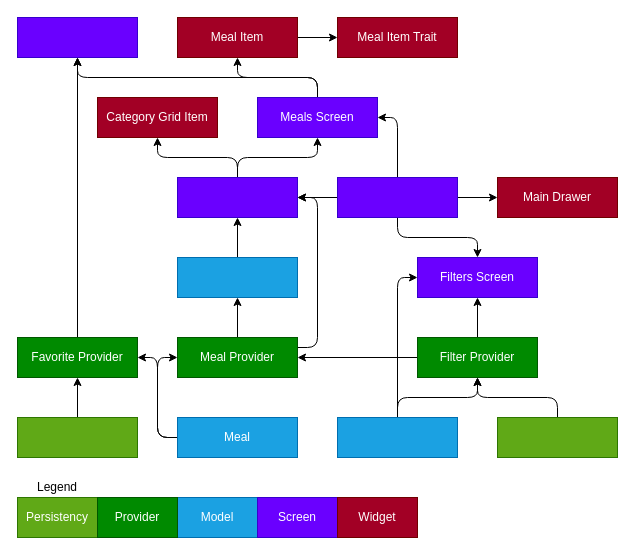
Image size: 635x555. Some labels were removed from this diagram. The shapes that lost their labels are listed below. From the top down, each one's centre as x and y in pixels, then its label:
At (77,37): "Meal Details Screen".
At (237,197): "Categories Screen".
At (397,197): "Tabs Screen".
At (237,277): "Category".
At (77,437): "Favorite Persistency".
At (397,437): "Filter".
At (557,437): "Filter Persistency".
